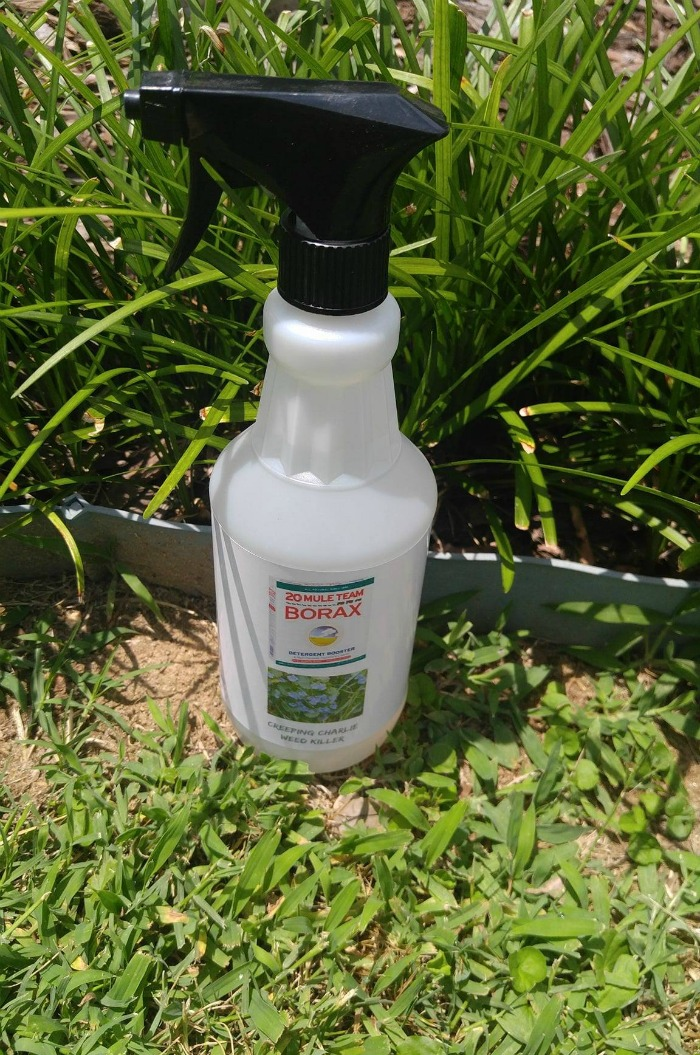crabgrass: (51, 744, 605, 1055)
